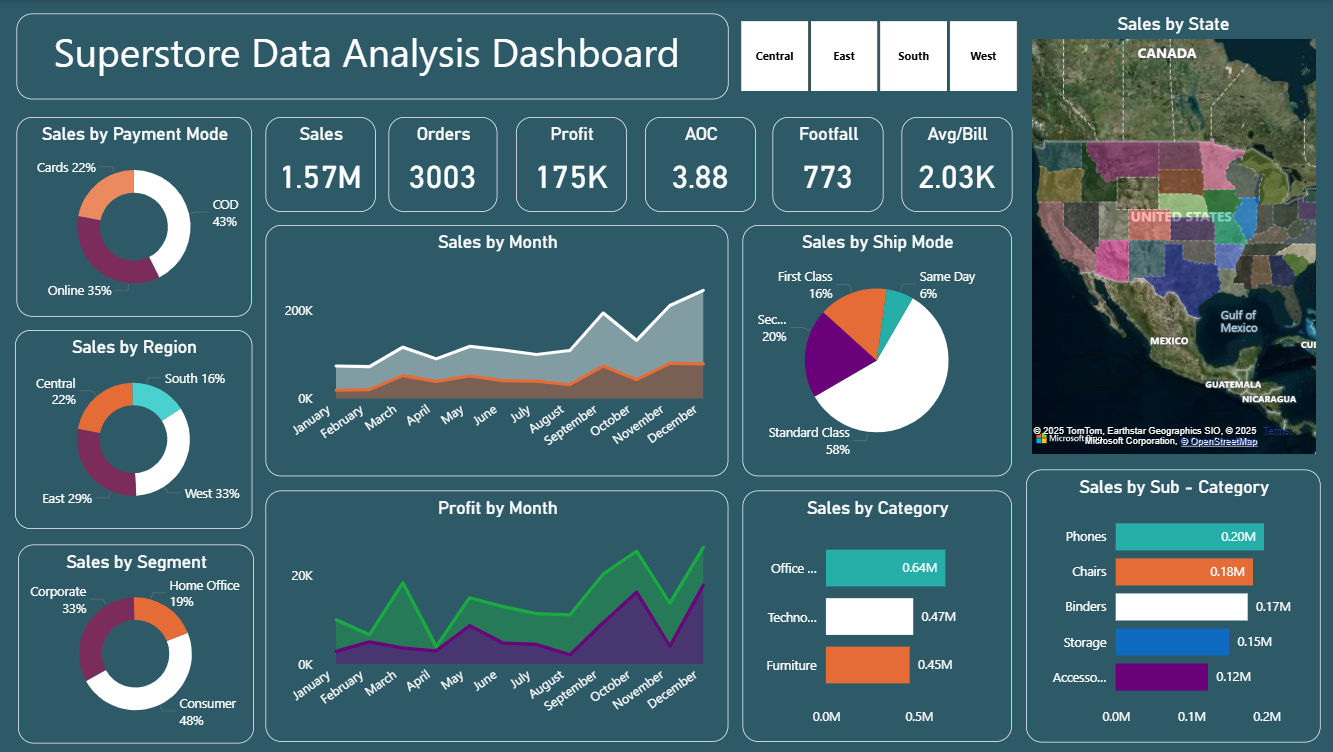

The page's visual inventory and layout, read from the dashboard file:
{"tool":"powerbi","page":{"name":"Page 1","canvas":[1280,720],"ordinal":0},"visuals":[{"type":"donutChart","title":"Sales by Payment Mode","fields":{"Y":["Sum(SuperStore_Sales_Dataset.Sales)"],"Category":["SuperStore_Sales_Dataset.Payment Mode"]},"box":[18.9,111.5,224.9,190.9],"z":0},{"type":"textbox","box":[18.3,13.3,680,81.7],"z":1000},{"type":"donutChart","title":"Sales by Region","fields":{"Y":["Sum(SuperStore_Sales_Dataset.Sales)"],"Category":["SuperStore_Sales_Dataset.Region"]},"box":[16.7,315,226.7,190],"z":2000},{"type":"donutChart","title":"Sales by Segment","fields":{"Y":["Sum(SuperStore_Sales_Dataset.Sales)"],"Category":["SuperStore_Sales_Dataset.Segment"]},"box":[20,520,225,190],"z":3000},{"type":"stackedAreaChart","title":"Sales by Month ","fields":{"Category":["SuperStore_Sales_Dataset.Order Date.Variation.Date Hierarchy.Month"],"Y":["Sum(SuperStore_Sales_Dataset.Sales)"],"Series":["SuperStore_Sales_Dataset.Order Date.Variation.Date Hierarchy.Year"]},"box":[257,215,442.2,240],"z":4000},{"type":"stackedAreaChart","title":"Profit by Month ","fields":{"Category":["SuperStore_Sales_Dataset.Order Date.Variation.Date Hierarchy.Month"],"Series":["SuperStore_Sales_Dataset.Order Date.Variation.Date Hierarchy.Year"],"Y":["Sum(SuperStore_Sales_Dataset.Profit)"]},"box":[257,468.7,442.2,240],"z":5000},{"type":"pieChart","title":"Sales by Ship Mode","fields":{"Category":["SuperStore_Sales_Dataset.Ship Mode"],"Y":["Sum(SuperStore_Sales_Dataset.Sales)"]},"box":[712.4,215,257,240],"z":6000},{"type":"barChart","title":"Sales by Category","fields":{"Category":["SuperStore_Sales_Dataset.Category"],"Y":["Sum(SuperStore_Sales_Dataset.Sales)"]},"box":[712.4,468.7,257,240],"z":7000},{"type":"barChart","title":"Sales by Sub - Category","fields":{"Y":["Sum(SuperStore_Sales_Dataset.Sales)"],"Category":["SuperStore_Sales_Dataset.Sub-Category"]},"box":[982.7,447.9,281.6,260.8],"z":8000},{"type":"filledMap","title":"Sales by State","fields":{"Category":["SuperStore_Sales_Dataset.State"],"Series":["SuperStore_Sales_Dataset.Sales"]},"box":[982.7,13.2,281.6,425.2],"z":9000},{"type":"slicer","fields":{"Values":["SuperStore_Sales_Dataset.Region"]},"box":[684.1,13.2,313.7,81.3],"z":10000},{"type":"card","title":"Sales","fields":{"Values":["Sum(SuperStore_Sales_Dataset.Sales)"]},"box":[257,111.5,105,90.7],"z":11000},{"type":"card","title":"Orders","fields":{"Values":["Count(SuperStore_Sales_Dataset.Order ID)"]},"box":[374.2,111.5,103.9,90.7],"z":12000},{"type":"card","title":"Profit","fields":{"Values":["Sum(SuperStore_Sales_Dataset.Profit)"]},"box":[495,111.5,105.8,90.7],"z":13000},{"type":"card","title":"AOC","fields":{"Values":["SuperStore_Sales_Dataset.Average Orders per Customer"]},"box":[619,111.5,105.8,90.7],"z":14000},{"type":"card","title":"Footfall","fields":{"Values":["SuperStore_Sales_Dataset.Total footfall"]},"box":[741,111.5,105.8,90.7],"z":15000},{"type":"card","title":"Avg/Bill","fields":{"Values":["SuperStore_Sales_Dataset.Average Bill by customer"]},"box":[863.6,111.5,105.8,90.7],"z":16000}]}

Visuals, with their boxes in screenshot pixels (x1, y1, x2, y2), scaled from the page's 1280x720 canvas onto the 1333x752 screenshot:
"Sales by Payment Mode" donutChart: [20,116,254,316]
textbox: [19,14,727,99]
"Sales by Region" donutChart: [17,329,253,527]
"Sales by Segment" donutChart: [21,543,255,742]
"Sales by Month " stackedAreaChart: [268,225,728,475]
"Profit by Month " stackedAreaChart: [268,490,728,740]
"Sales by Ship Mode" pieChart: [742,225,1010,475]
"Sales by Category" barChart: [742,490,1010,740]
"Sales by Sub - Category" barChart: [1023,468,1317,740]
"Sales by State" filledMap: [1023,14,1317,458]
slicer - SuperStore_Sales_Dataset.Region: [712,14,1039,99]
"Sales" card: [268,116,377,211]
"Orders" card: [390,116,498,211]
"Profit" card: [515,116,626,211]
"AOC" card: [645,116,755,211]
"Footfall" card: [772,116,882,211]
"Avg/Bill" card: [899,116,1010,211]
